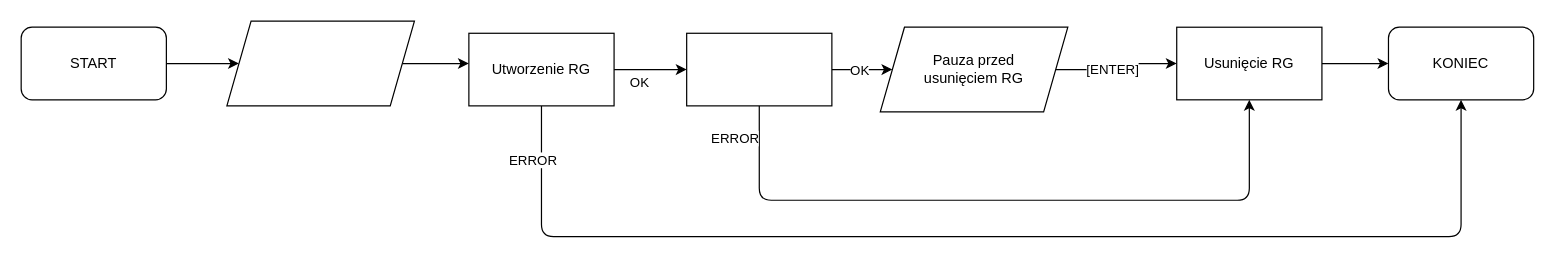
Some shapes in this 1555 by 267 pixel diagram are drawn without their labels. Here are the shapes that lost their labels. From the top down, the box of each, then its label:
(226, 20, 414, 106): Przyjęcie danych od użytkownika
(685, 32, 832, 106): Utworzenie pozostałych obiektów
